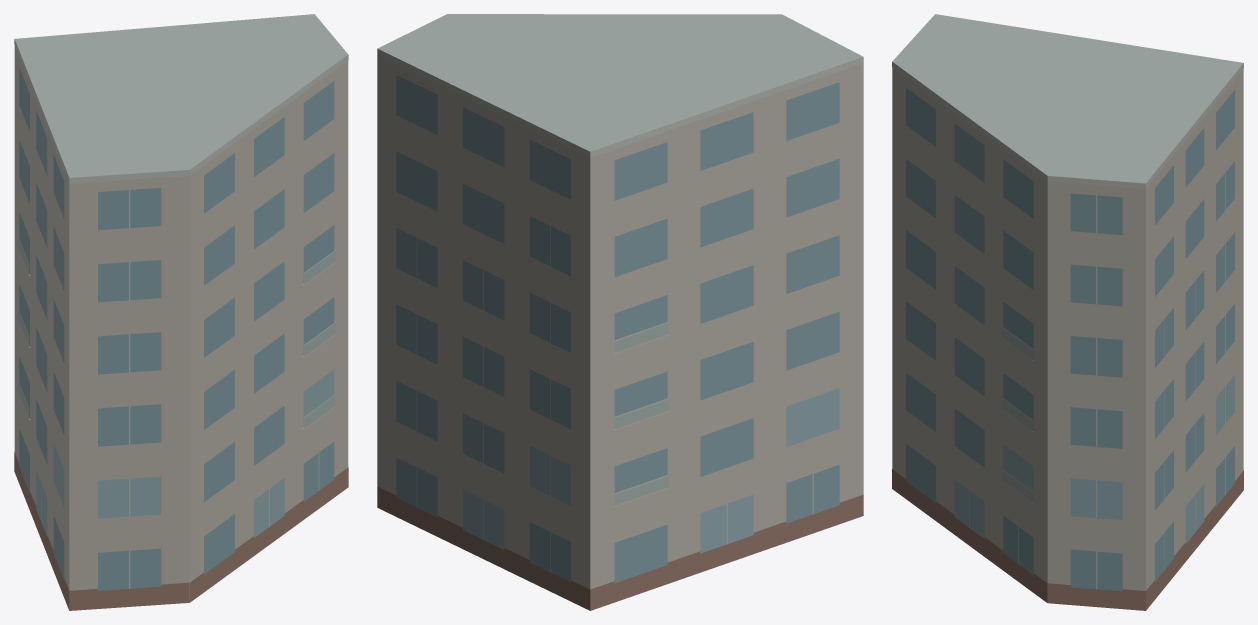
File: survey-upis-32877482.glb
The picture shows the model from 3 angles, left to right: view 1: azimuth 30°, elevation 25°; view 2: azimuth 150°, elevation 25°; view 3: azimuth 270°, elevation 25°; orthographic projection. The views are drawn at different scales.
Parts seen in each view (by area): view 1: survey-upis-32877482.tmp; view 2: survey-upis-32877482.tmp; view 3: survey-upis-32877482.tmp.
Boxes of the visible parts, bbox=[...] form: survey-upis-32877482.tmp: bbox=[14, 14, 348, 610]; survey-upis-32877482.tmp: bbox=[377, 14, 863, 610]; survey-upis-32877482.tmp: bbox=[892, 14, 1243, 610].
Size of the model in its own units: 15.24 by 17.9 by 13.35.
